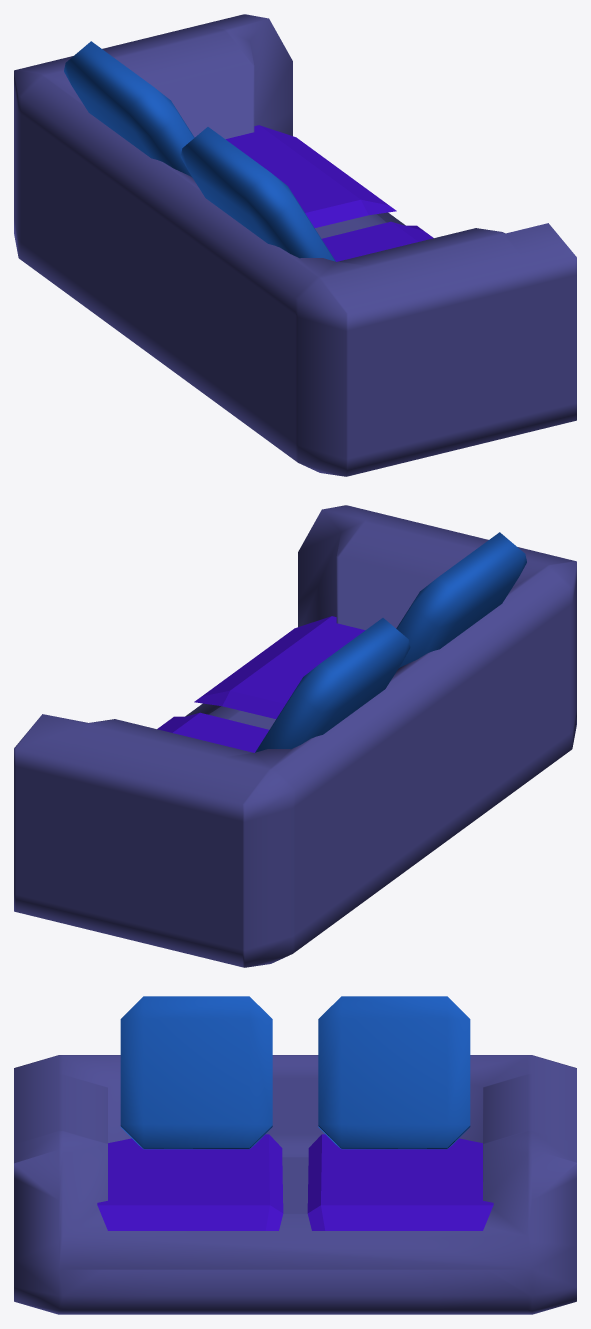
The model's file is Sofa.fbx.
3 renders of one model, top to bottom at view 1: azimuth 30°, elevation 25°; view 2: azimuth 150°, elevation 25°; view 3: azimuth 270°, elevation 25°, orthographic. The views are drawn at different scales.
Visible parts, largest first — view 1: Cube, Cube.001, Plane; view 2: Cube, Cube.001, Plane; view 3: Cube, Cube.001, Plane.
Part boxes in pixels (bbox=[...]): Cube: bbox=[14, 14, 576, 476]; Cube.001: bbox=[64, 41, 335, 261]; Plane: bbox=[226, 125, 433, 261]; Cube: bbox=[14, 505, 576, 967]; Cube.001: bbox=[255, 532, 526, 752]; Plane: bbox=[157, 616, 364, 752]; Cube: bbox=[14, 1055, 576, 1314]; Cube.001: bbox=[120, 996, 470, 1149]; Plane: bbox=[97, 1134, 493, 1230].
Size of the model in its own units: 499 by 453 by 1035.
